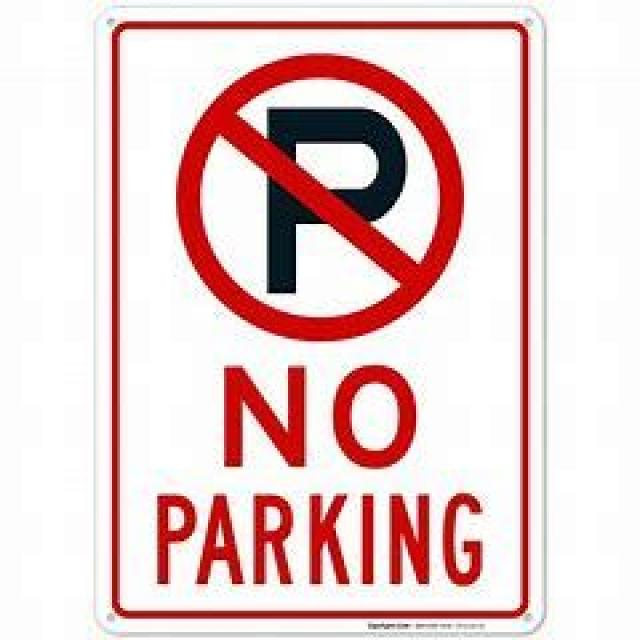NO_PARKING: (170, 51, 467, 341)
